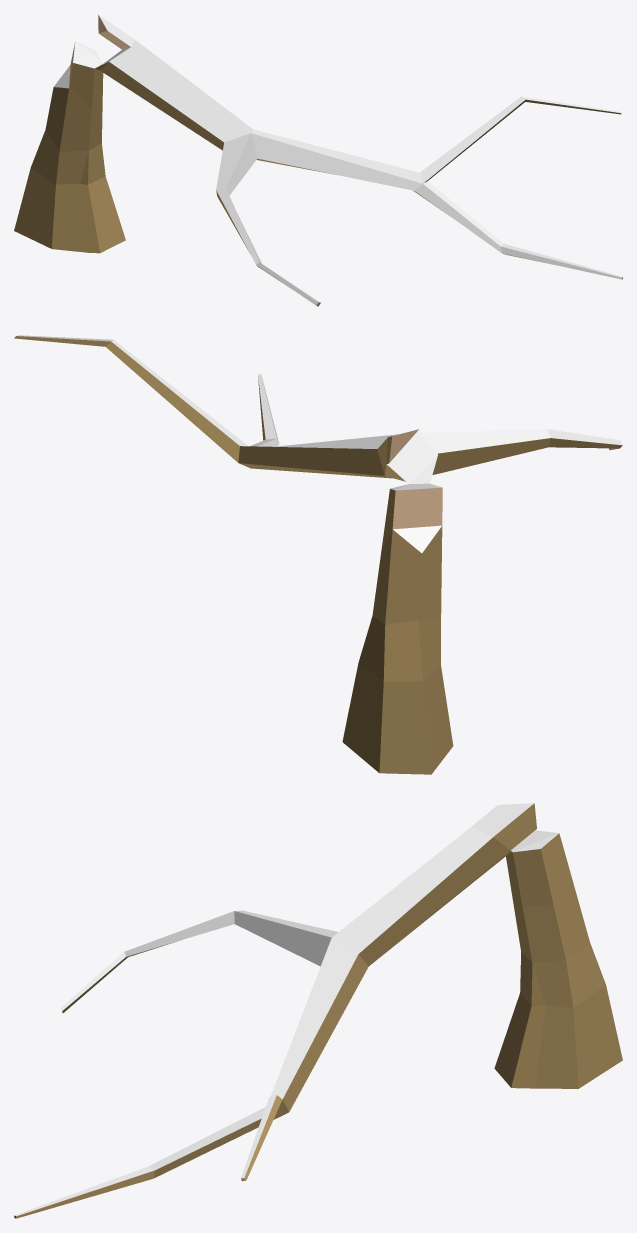
Rendered from Oak_Tree_NoLeaves_crk_l_Snow_BT_03.fbx.
3 renders of one model, top to bottom at view 1: azimuth 30°, elevation 25°; view 2: azimuth 150°, elevation 25°; view 3: azimuth 270°, elevation 25°, orthographic. The views are drawn at different scales.
Visible parts, largest first — view 1: Oak_Tree_NoLeaves_crk_l_Snow_BT_03; view 2: Oak_Tree_NoLeaves_crk_l_Snow_BT_03; view 3: Oak_Tree_NoLeaves_crk_l_Snow_BT_03.
Part boxes in pixels (box(x1,y1,x2,y2)): Oak_Tree_NoLeaves_crk_l_Snow_BT_03: box(14, 14, 622, 306); Oak_Tree_NoLeaves_crk_l_Snow_BT_03: box(14, 335, 622, 774); Oak_Tree_NoLeaves_crk_l_Snow_BT_03: box(14, 803, 622, 1218).
Bounding box in the file's own units: 624 × 289 × 582.
